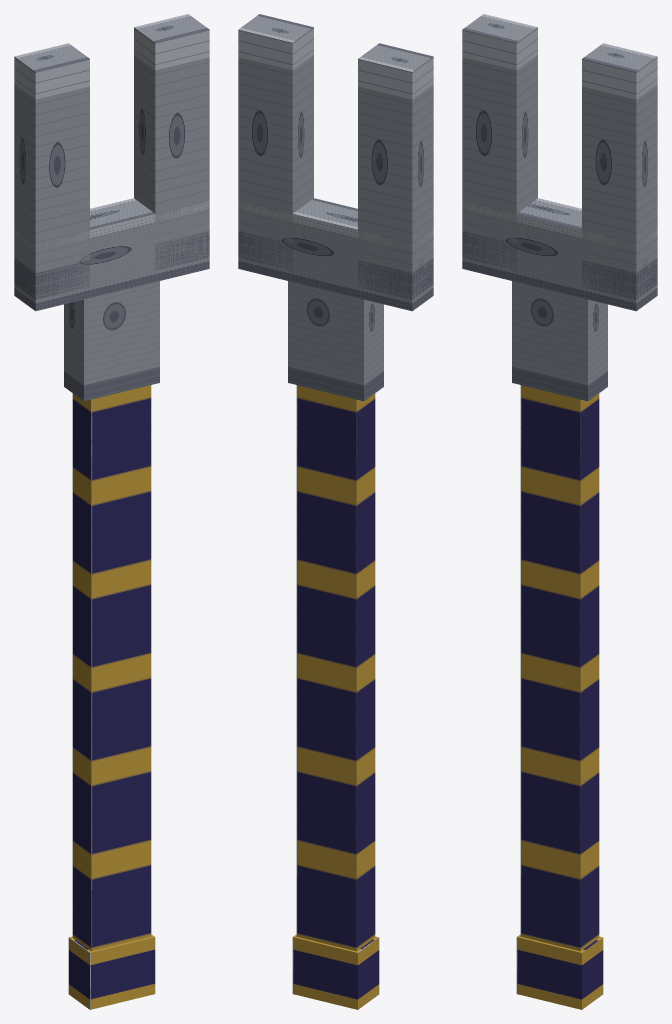
The model's file is wrench.glb.
3 views of the same model, side by side, from view 1: azimuth 30°, elevation 25°; view 2: azimuth 150°, elevation 25°; view 3: azimuth 330°, elevation 25° (orthographic).
Visible parts, largest first — view 1: wrench; view 2: wrench; view 3: wrench.
Part boxes in pixels (x1,y1,x2,y2): wrench: (14,14,209,1009); wrench: (238,14,433,1009); wrench: (462,14,657,1009).
Size of the model in its own units: 0.16 by 0.835 by 0.034.
Materials: 1 (1 with a texture image).
